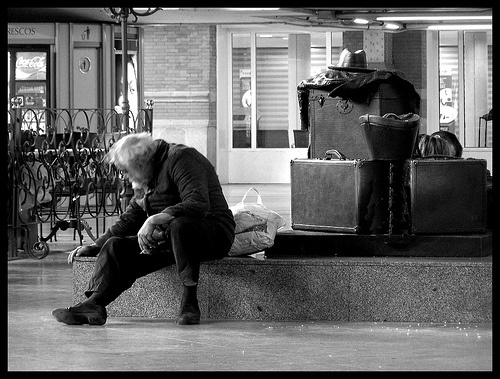head: (107, 132, 161, 189)
person: (55, 128, 236, 328), (417, 130, 462, 157)
